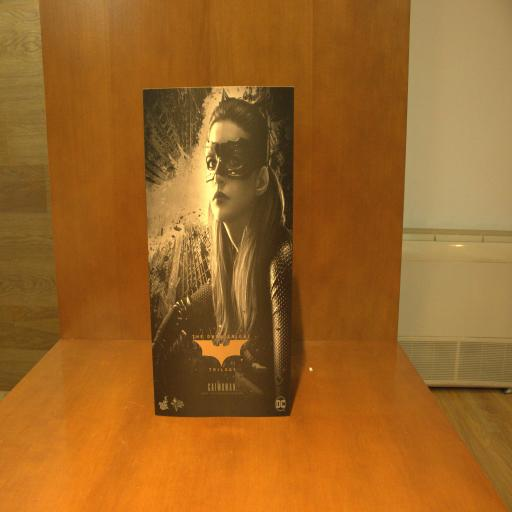catwoman: (142, 84, 294, 418)
